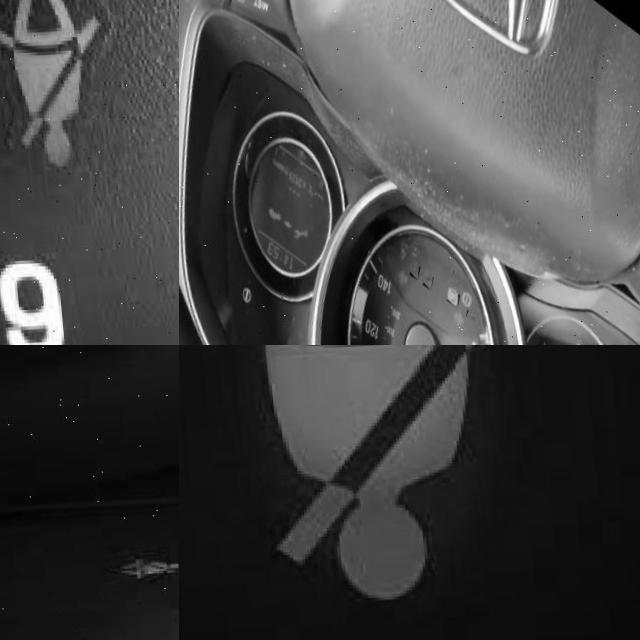Seat Belt: (179, 345, 529, 607), (0, 0, 104, 171), (110, 557, 175, 585)
